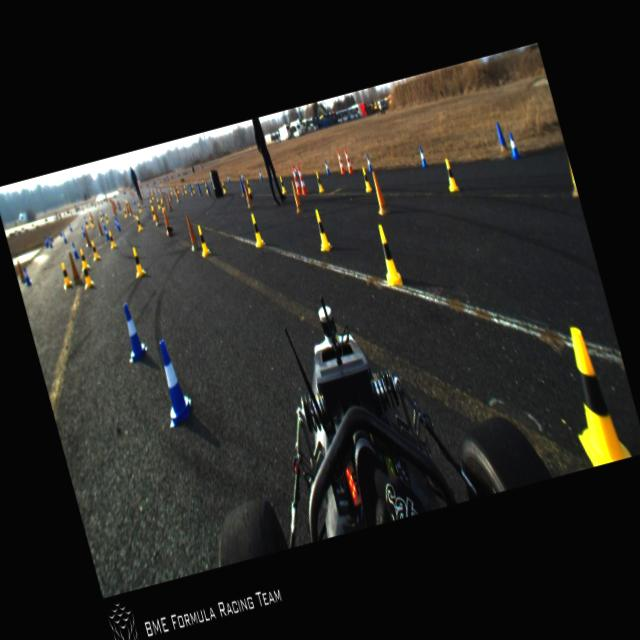blue_cone: (147, 336, 197, 429), (114, 301, 150, 364), (506, 131, 522, 160), (416, 146, 428, 168), (22, 266, 32, 286), (364, 154, 373, 173), (70, 242, 78, 258), (102, 224, 110, 240), (322, 160, 330, 174), (115, 218, 122, 231), (112, 216, 119, 228), (80, 225, 86, 238), (258, 168, 264, 180), (101, 218, 107, 230), (61, 232, 67, 243), (48, 237, 54, 248), (226, 174, 232, 183), (240, 172, 245, 182), (43, 238, 48, 248), (44, 236, 49, 246), (48, 234, 54, 242), (184, 180, 188, 190), (116, 202, 121, 210), (146, 192, 150, 201), (68, 222, 72, 231), (194, 179, 198, 187), (132, 196, 136, 204), (100, 210, 104, 218), (82, 216, 86, 224), (58, 228, 62, 236), (208, 177, 212, 184), (161, 187, 165, 194), (202, 178, 204, 185)
large_orange_cone: (294, 162, 309, 195), (289, 162, 302, 195), (342, 146, 354, 174), (334, 147, 346, 174)
unknown_cone: (368, 169, 390, 216), (182, 212, 202, 252), (288, 178, 305, 213), (65, 251, 82, 285), (492, 120, 508, 153), (160, 207, 173, 236), (242, 182, 254, 209), (14, 258, 26, 284), (150, 204, 161, 226), (82, 227, 92, 246), (94, 218, 104, 236), (237, 177, 246, 196), (164, 194, 172, 212), (126, 202, 134, 216), (173, 189, 180, 203), (195, 182, 202, 195), (188, 183, 194, 196), (159, 190, 164, 198), (138, 194, 142, 203), (154, 186, 158, 194)
yellow_cone: (550, 320, 632, 468), (372, 222, 403, 290), (310, 206, 332, 252), (247, 212, 266, 250), (194, 223, 212, 258), (128, 244, 146, 278), (441, 156, 458, 192), (78, 260, 96, 290), (58, 261, 74, 290), (359, 166, 373, 193), (76, 248, 90, 272), (313, 170, 324, 192), (88, 240, 100, 260), (106, 229, 117, 249), (277, 174, 287, 194), (134, 214, 143, 232), (244, 178, 252, 194), (149, 204, 156, 220), (220, 180, 227, 193), (121, 206, 128, 219), (155, 197, 162, 210), (103, 212, 110, 224), (84, 217, 90, 230), (136, 202, 142, 214), (148, 198, 154, 210), (160, 200, 166, 212), (89, 217, 95, 228), (160, 198, 165, 210), (190, 184, 196, 194), (168, 186, 174, 195), (88, 215, 93, 225), (204, 182, 208, 194), (98, 211, 103, 220), (182, 184, 187, 193), (150, 191, 154, 200), (176, 185, 180, 194)
